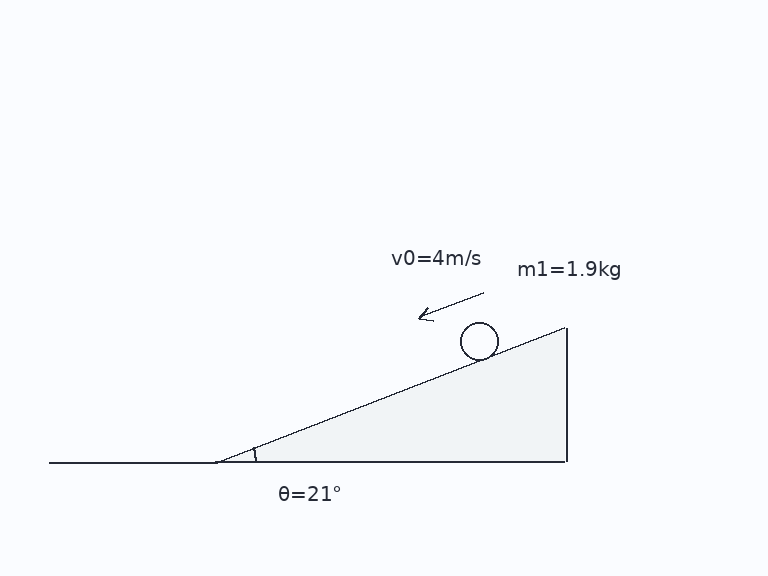ball: (458, 320, 500, 362)
ramp: (214, 326, 566, 464)
